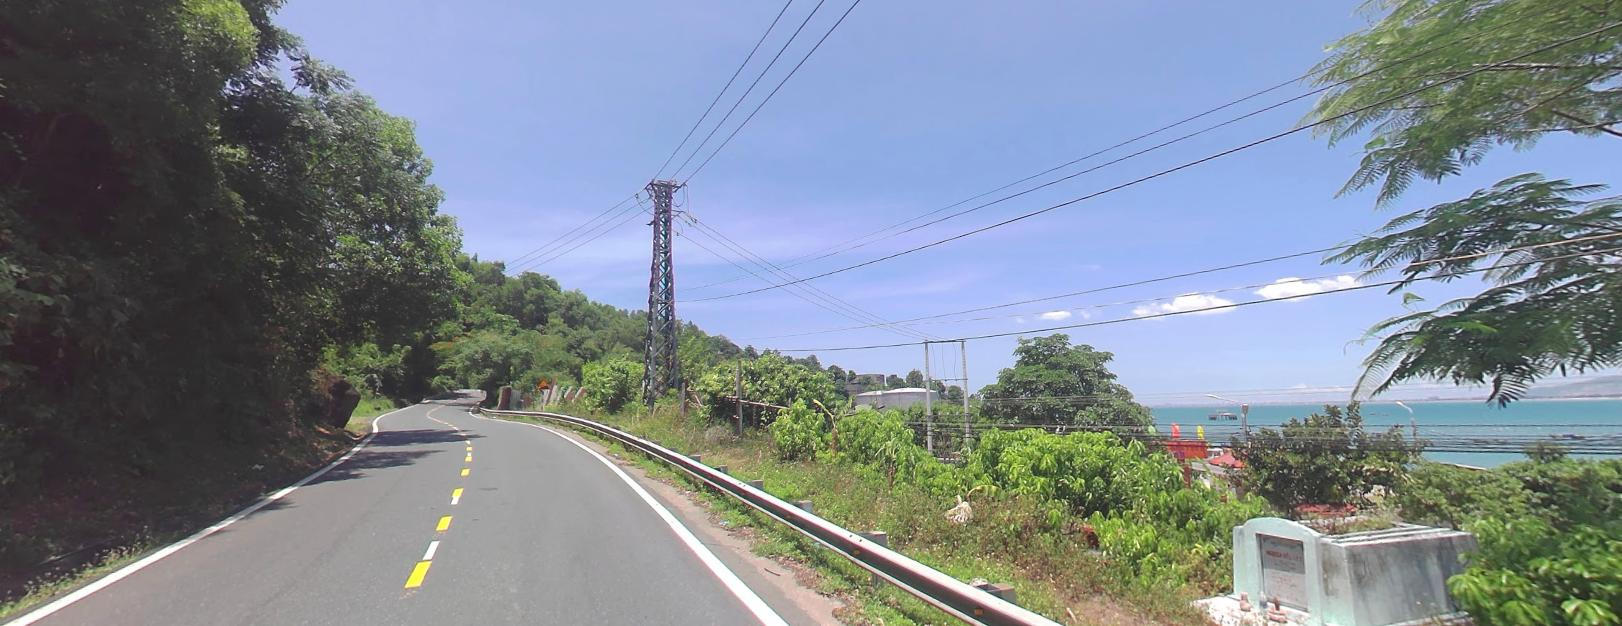Nguy hiem: (536, 377, 549, 387)
